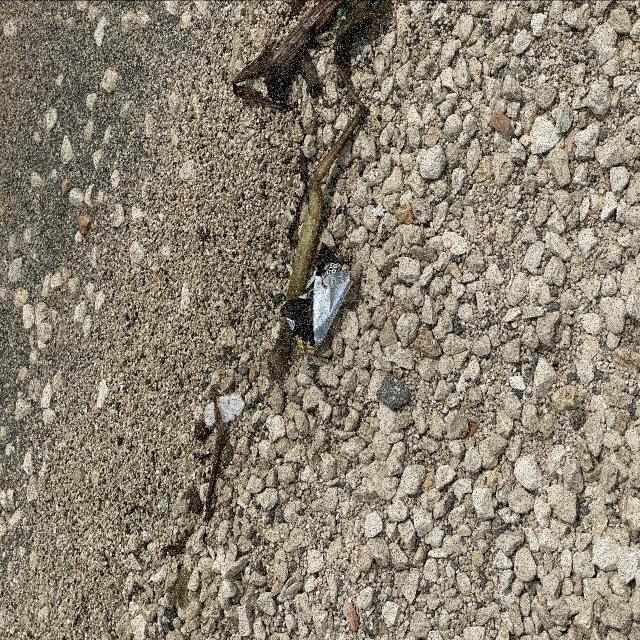plastic_waste: (281, 241, 355, 359)
